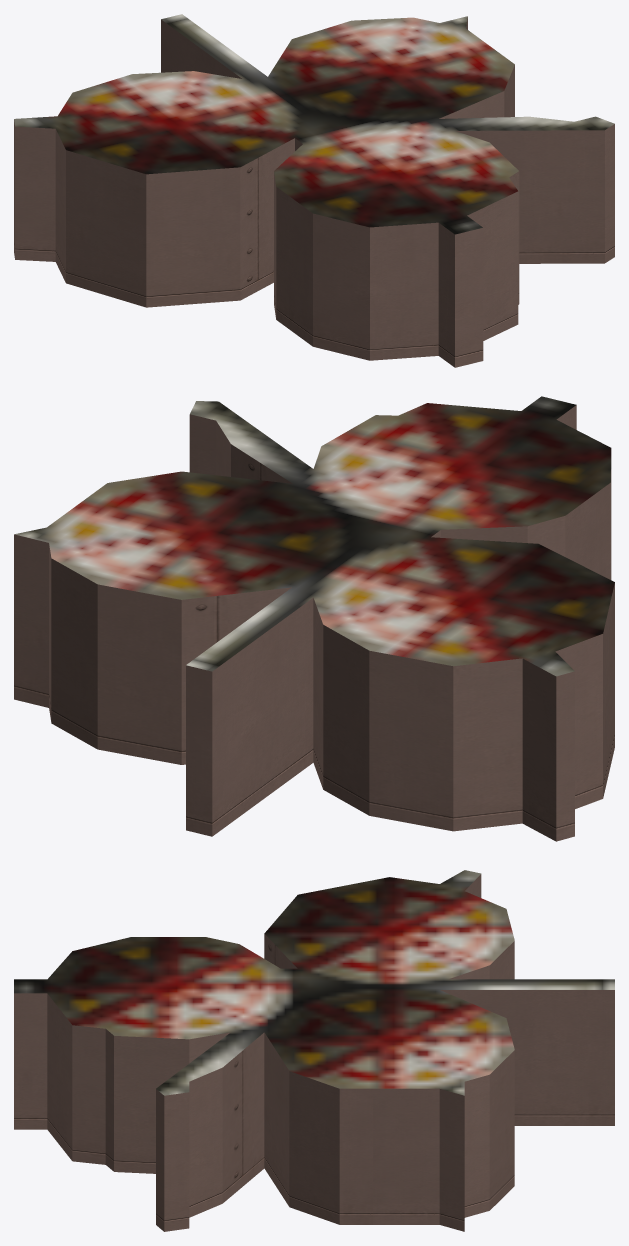
Rendered from fuel_tank_heavy_47.glb.
The picture shows the model from 3 angles, top to bottom: view 1: azimuth 30°, elevation 25°; view 2: azimuth 150°, elevation 25°; view 3: azimuth 270°, elevation 25°; orthographic projection. The views are drawn at different scales.
Parts seen in each view (by area): view 1: buildings/saxarba/fuel_tanks/fuel_tank_heavy_47; view 2: buildings/saxarba/fuel_tanks/fuel_tank_heavy_47; view 3: buildings/saxarba/fuel_tanks/fuel_tank_heavy_47.
Boxes of the visible parts, left/top/right/bottom form: buildings/saxarba/fuel_tanks/fuel_tank_heavy_47: left=14, top=14, right=614, bottom=367; buildings/saxarba/fuel_tanks/fuel_tank_heavy_47: left=14, top=396, right=614, bottom=841; buildings/saxarba/fuel_tanks/fuel_tank_heavy_47: left=14, top=870, right=614, bottom=1231.
Size of the model in its own units: 64 by 18 by 72.
